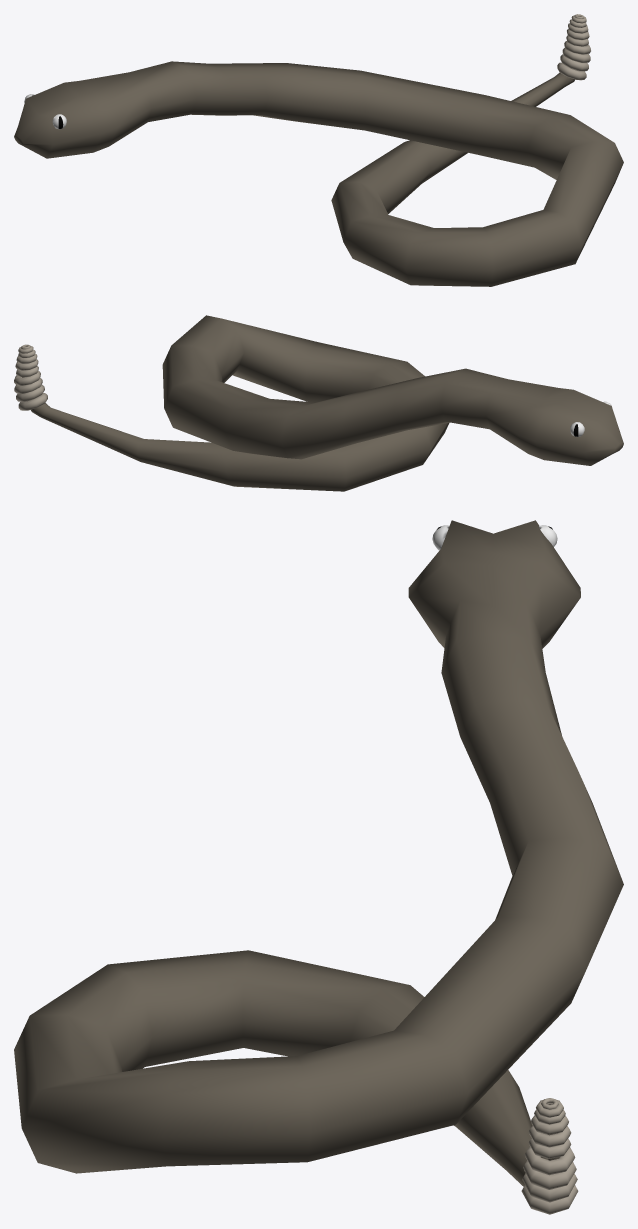
File: rattlesnake.fbx
3 views of the same model, one above another, from view 1: azimuth 30°, elevation 25°; view 2: azimuth 150°, elevation 25°; view 3: azimuth 270°, elevation 25° (orthographic). The views are drawn at different scales.
Visible parts, largest first — view 1: snake; view 2: snake; view 3: snake.
Boxes of the visible parts, x1,y1,x2,y2 form: snake: (14, 14, 623, 286); snake: (14, 315, 623, 491); snake: (14, 520, 623, 1214).
Bounding box in the file's own units: 128 × 36.84 × 64.72.
